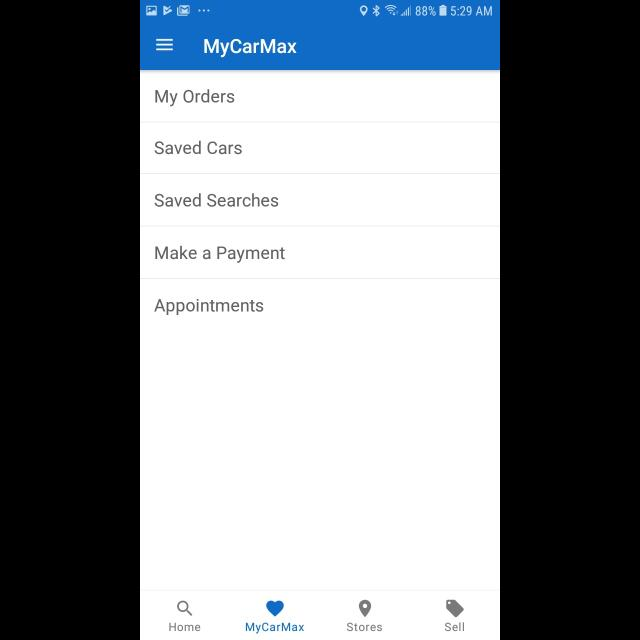icon: (446, 599, 464, 617), (266, 600, 284, 616), (177, 600, 193, 616), (156, 38, 174, 52), (358, 599, 372, 617)
text: (155, 245, 285, 263), (154, 298, 264, 316), (204, 40, 296, 59), (155, 193, 279, 207), (155, 89, 235, 107), (154, 140, 242, 156), (246, 622, 304, 634), (346, 622, 382, 632), (170, 622, 200, 632), (444, 622, 464, 632)
uppertaskbar: (140, 1, 500, 18)
